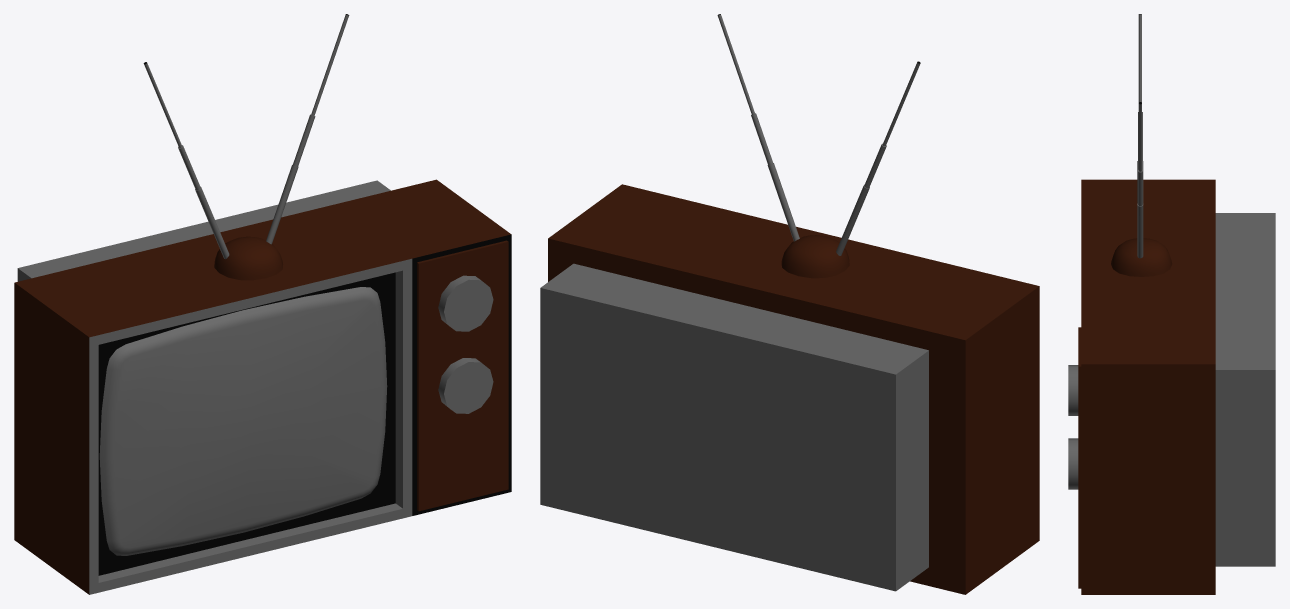
3 renders of one model, left to right at view 1: azimuth 30°, elevation 25°; view 2: azimuth 150°, elevation 25°; view 3: azimuth 270°, elevation 25°, orthographic. The views are drawn at different scales.
Visible parts, largest first — view 1: Plane.001; view 2: Plane.001; view 3: Plane.001.
Part boxes in pixels (x1=…): Plane.001: x1=14, y1=14, x2=511, y2=594; Plane.001: x1=540, y1=14, x2=1039, y2=594; Plane.001: x1=1068, y1=14, x2=1275, y2=594.
Bounding box in the file's own units: 343 × 378 × 163.
